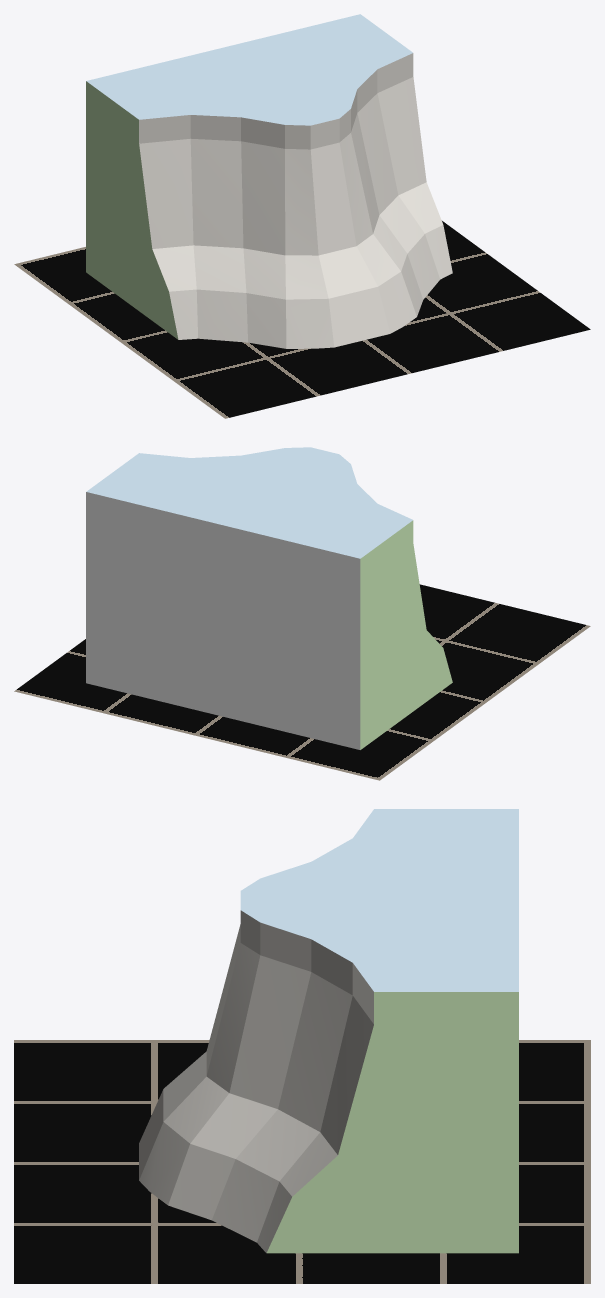
Rendered from Wall_Straight_Deformed_Convex_3x3_Base.glb.
3 renders of one model, top to bottom at view 1: azimuth 30°, elevation 25°; view 2: azimuth 150°, elevation 25°; view 3: azimuth 270°, elevation 25°, orthographic. The views are drawn at different scales.
Parts seen in each view (by area): view 1: Wall_Straight_Deformed_Convex_3x3_Base, Floor; view 2: Wall_Straight_Deformed_Convex_3x3_Base, Floor; view 3: Wall_Straight_Deformed_Convex_3x3_Base, Floor.
Part boxes in pixels (left/top/right/bottom): Wall_Straight_Deformed_Convex_3x3_Base: left=86, top=14, right=452, bottom=348; Floor: left=14, top=221, right=590, bottom=418; Wall_Straight_Deformed_Convex_3x3_Base: left=86, top=447, right=452, bottom=749; Floor: left=14, top=584, right=590, bottom=780; Wall_Straight_Deformed_Convex_3x3_Base: left=139, top=809, right=518, bottom=1253; Floor: left=14, top=1040, right=590, bottom=1283.
Size of the model in its own units: 400 by 200 by 400.
Materials: 5 (1 with a texture image).
